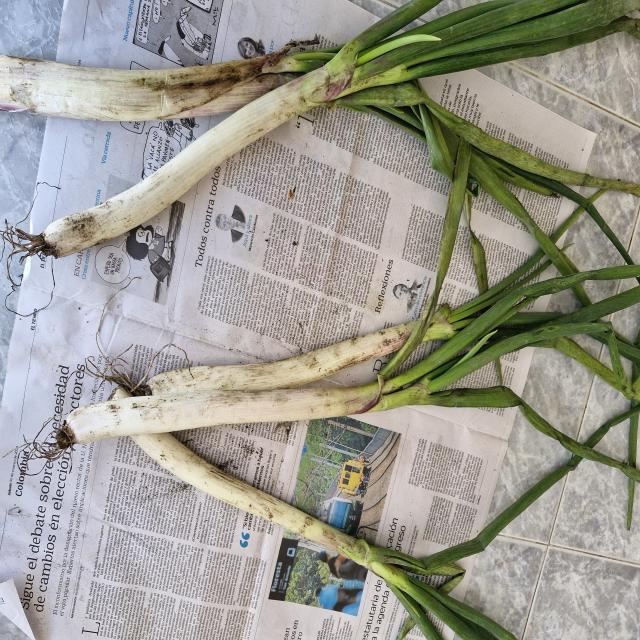green_onion: (32, 2, 640, 264), (84, 282, 514, 434)
